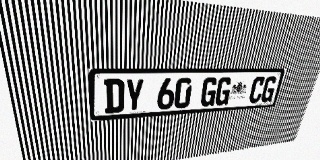0: (173, 78, 193, 109)
6: (157, 78, 176, 110)
C: (248, 76, 266, 103)
D: (104, 79, 124, 114)
G: (199, 77, 219, 107), (214, 77, 233, 106), (260, 76, 278, 103)
Y: (125, 78, 144, 112)
